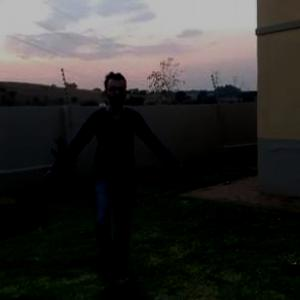land: (39, 64, 181, 282)
